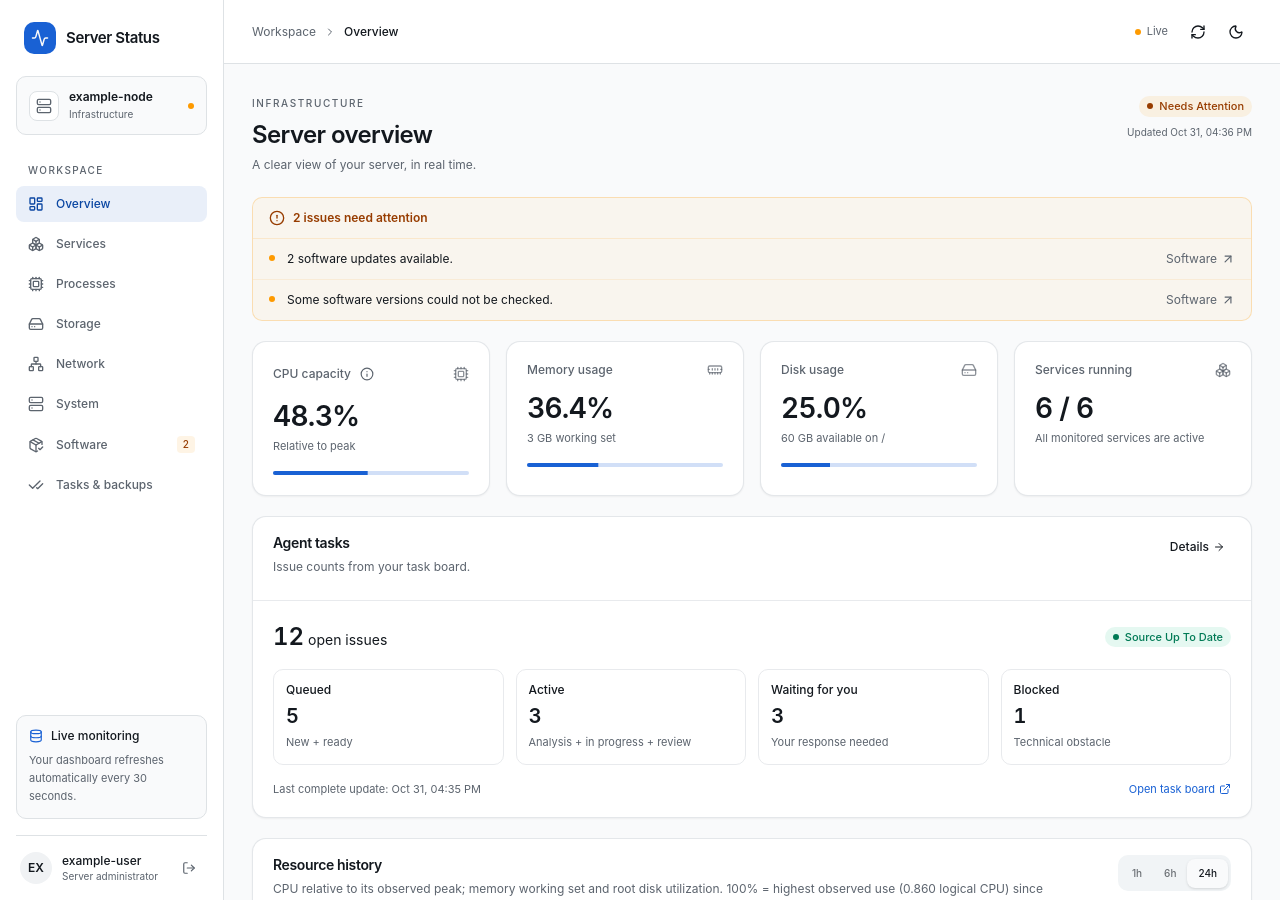
it: dashboard features › clears dashboard data when a refresh reports an expired session
Expected: the heading "Server overview" is shown, 252,120 -> 432,149
Click the button named "Refresh all metrics" at {"x": 1198, "y": 32}, box 1182,16 -> 1214,48
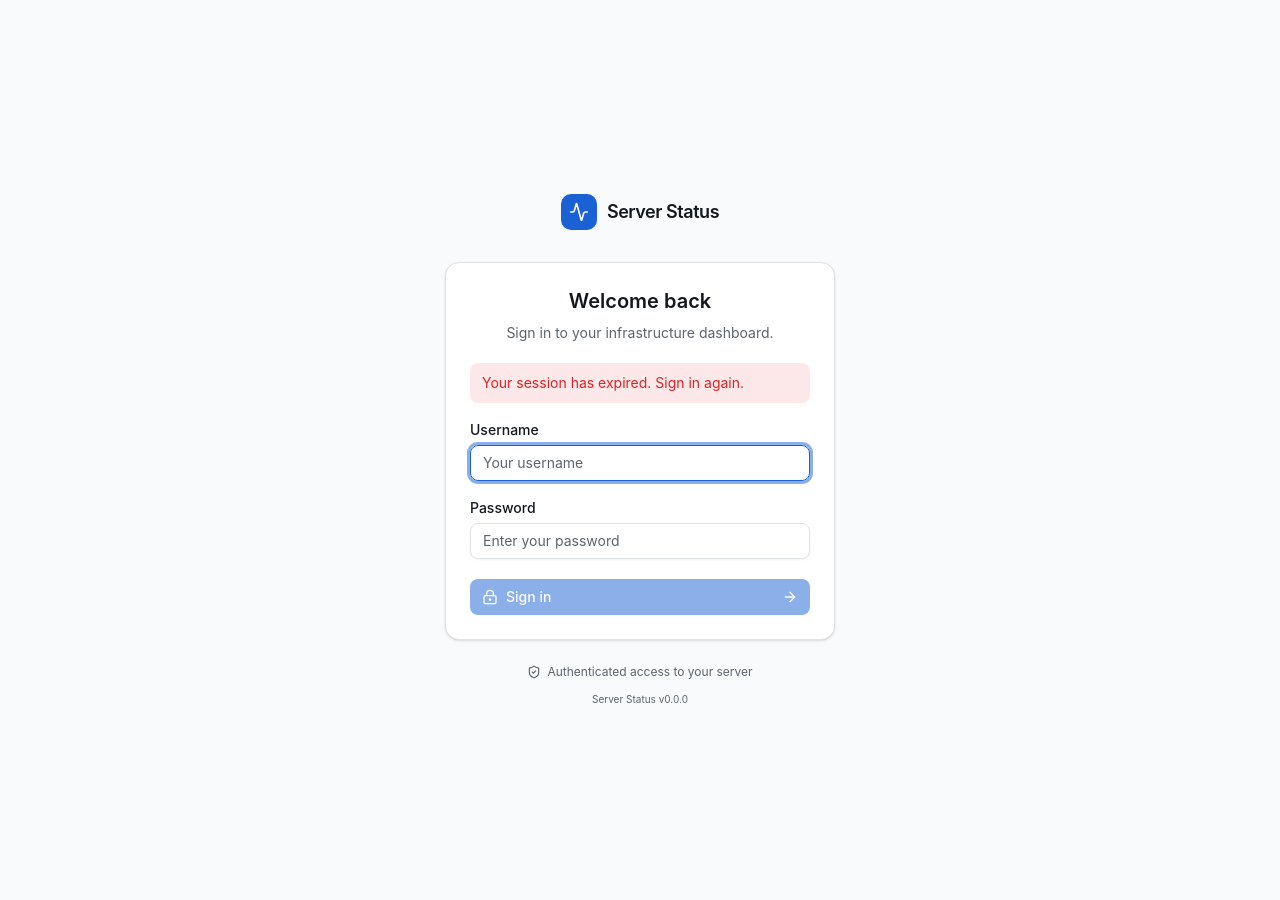
Now the field labelled "Username" is shown, box 470,444 -> 810,480
